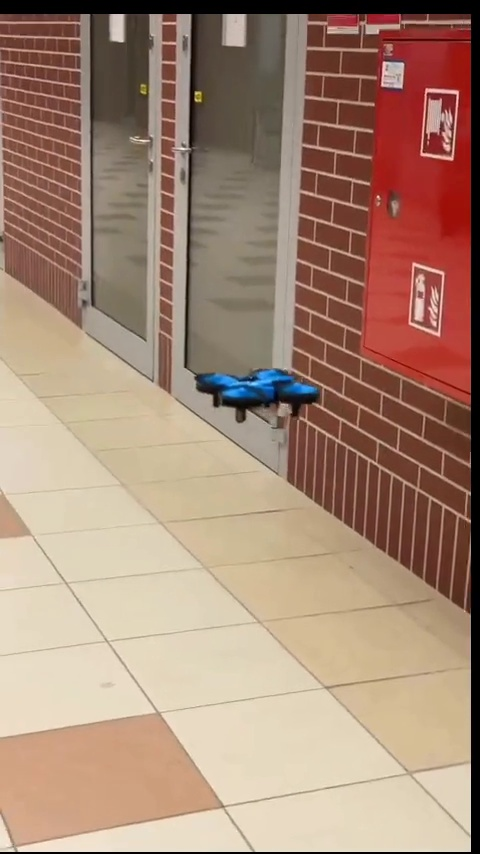drone: (186, 371, 326, 425)
